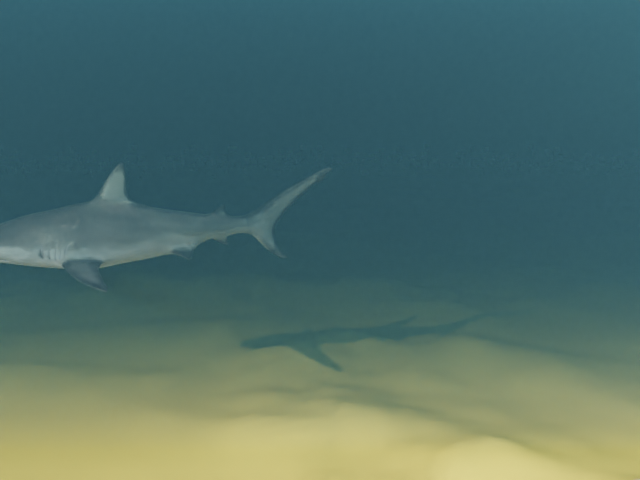Carribean Shark.001: (0, 162, 332, 291)
